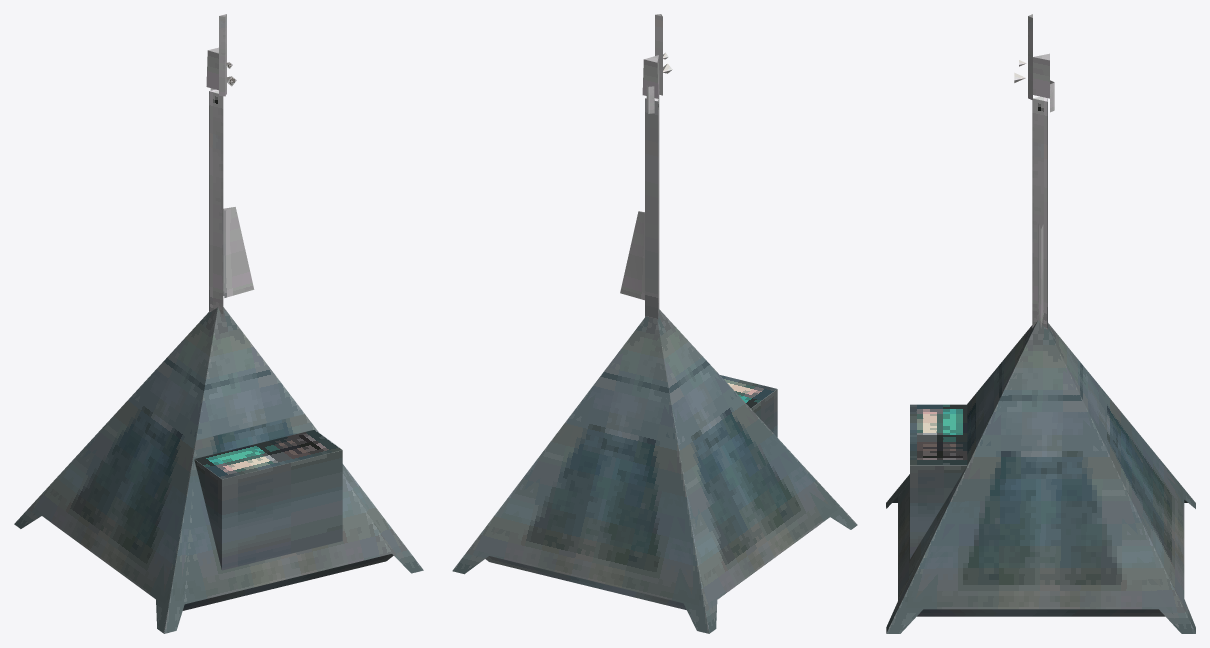
File: eqp_tool_sensor_frequency_jammer_s2_l2.fbx
The picture shows the model from 3 angles, left to right: view 1: azimuth 30°, elevation 25°; view 2: azimuth 150°, elevation 25°; view 3: azimuth 270°, elevation 25°; orthographic projection. The views are drawn at different scales.
Parts seen in each view (by area): view 1: mesh_node; view 2: mesh_node; view 3: mesh_node.
Boxes of the visible parts, <box> form: mesh_node: <box>14,14,423,633</box>; mesh_node: <box>452,14,857,633</box>; mesh_node: <box>886,14,1195,633</box>.
Bounding box in the file's own units: 0.4059 × 0.7988 × 0.4062.
1 material, 1 textured.
